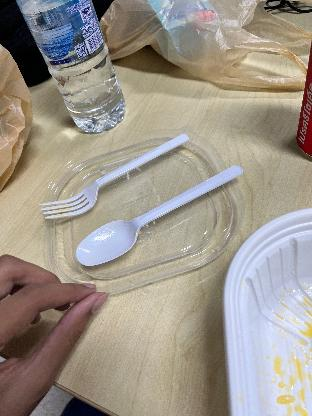Others: (67, 160, 245, 276), (35, 128, 191, 224)
Plastic Bottle: (14, 0, 126, 134)
